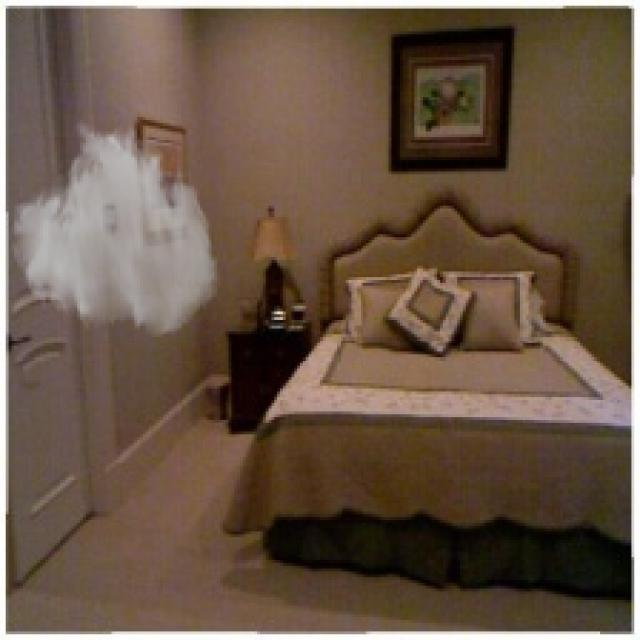smoke: (9, 117, 220, 340)
